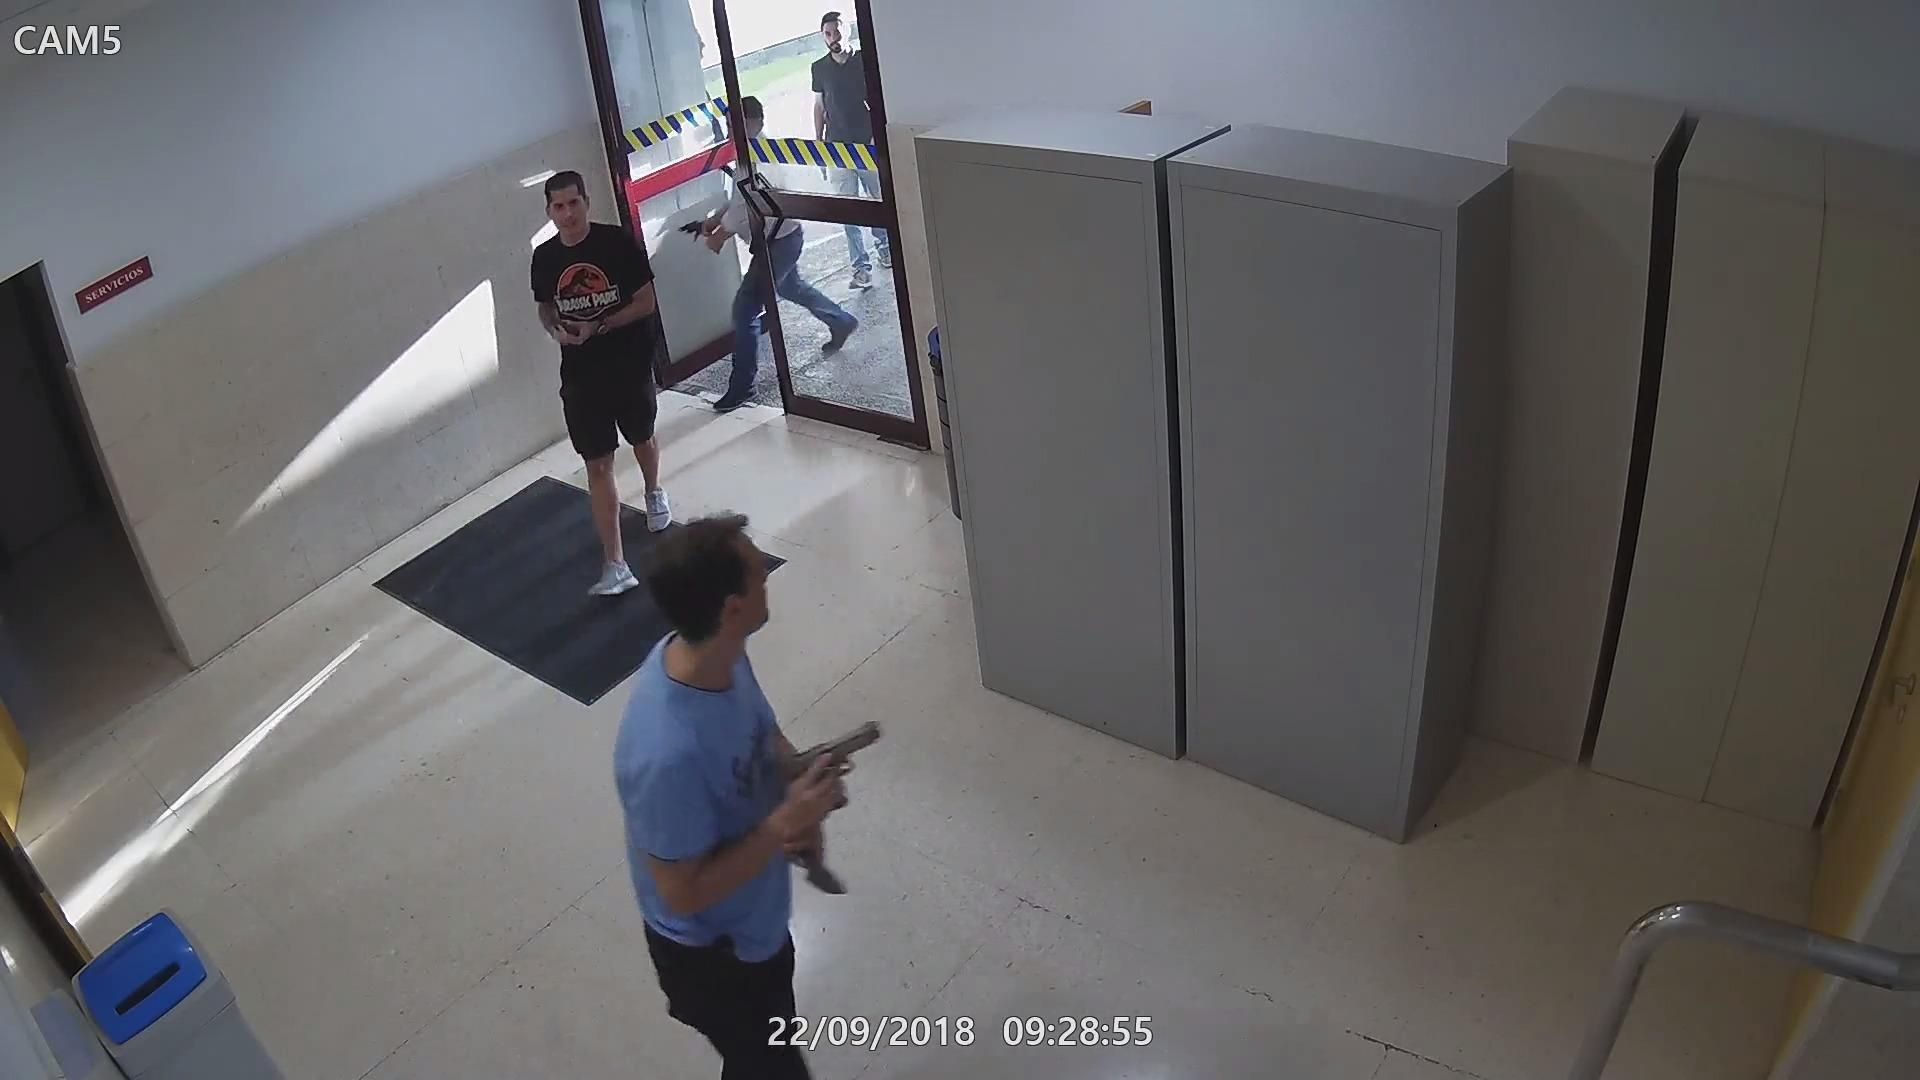Handgun: (781, 716, 889, 827), (541, 309, 588, 344), (674, 214, 719, 240)
